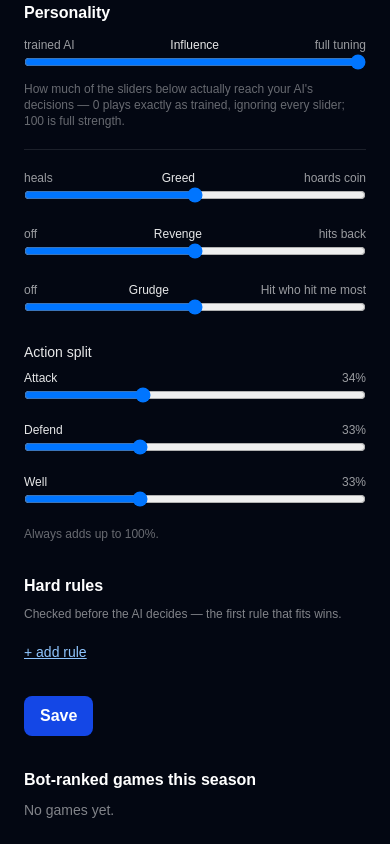
Test case: MyAiPage › adds and removes a hard rule
(page scrolled)
Click the button "+ add rule": click(55, 652) [24,642,87,662]
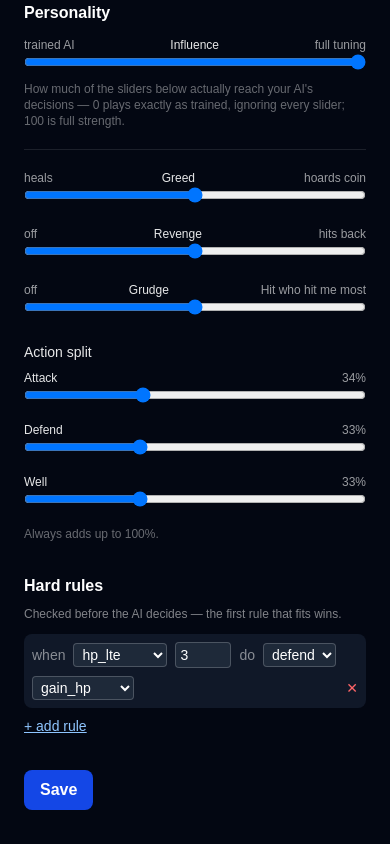
Expected: the button "✕" is shown
Click the button "✕": click(352, 688) [346,678,358,698]
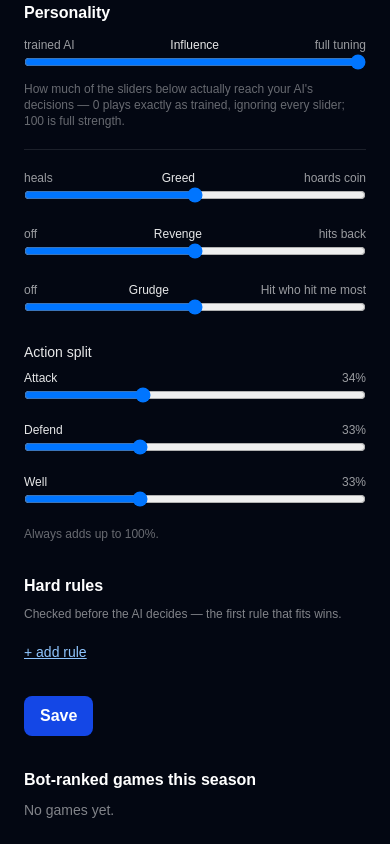
Expected: the button "✕" is gone
